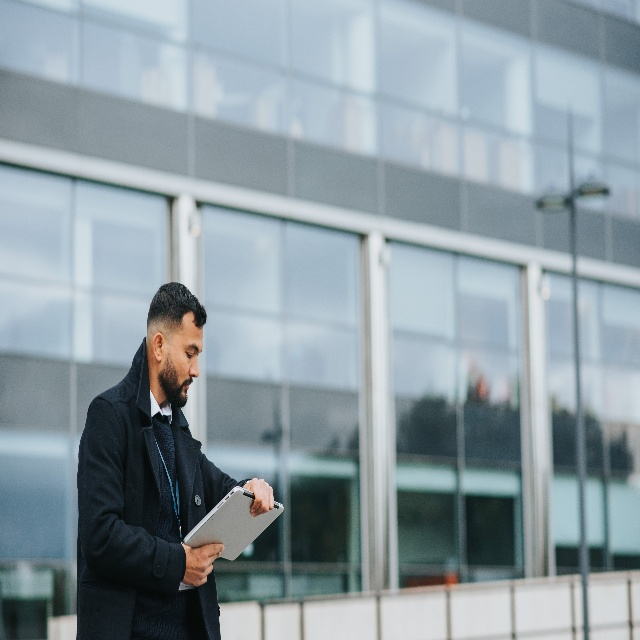Sin_guantes: (182, 542, 224, 587), (243, 477, 274, 516)
